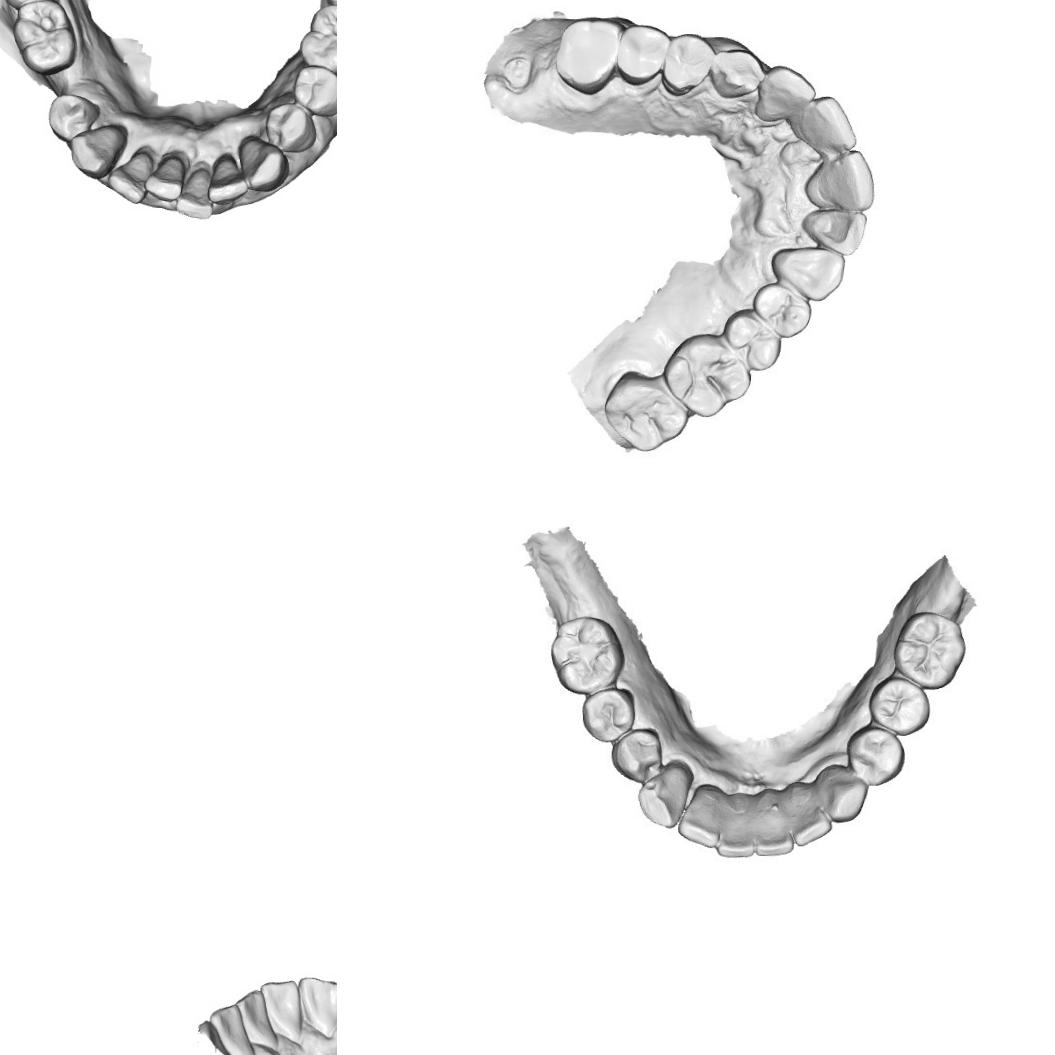canine: (766, 240, 847, 303), (633, 763, 694, 832), (68, 121, 128, 182), (704, 44, 764, 102), (234, 134, 290, 194), (817, 765, 868, 822), (295, 975, 337, 1040)
incisor: (812, 151, 876, 213), (758, 61, 815, 126), (800, 98, 859, 156), (257, 978, 304, 1045), (104, 148, 156, 206), (808, 206, 866, 253), (790, 786, 832, 844), (682, 778, 722, 838), (206, 153, 250, 207), (173, 166, 216, 221), (716, 806, 756, 861), (144, 154, 188, 203), (755, 797, 790, 852), (232, 986, 268, 1030), (208, 1000, 244, 1042)
molar: (658, 329, 752, 420), (598, 368, 688, 454), (890, 610, 968, 688), (550, 617, 624, 697), (9, 0, 79, 76), (557, 16, 622, 91), (297, 2, 337, 79)
premolar: (870, 674, 934, 737), (722, 311, 782, 370), (850, 728, 904, 786), (751, 281, 810, 334), (262, 100, 318, 154), (582, 686, 634, 744), (619, 24, 671, 79), (666, 34, 714, 92), (46, 92, 101, 142), (291, 63, 337, 118), (618, 726, 661, 778)
